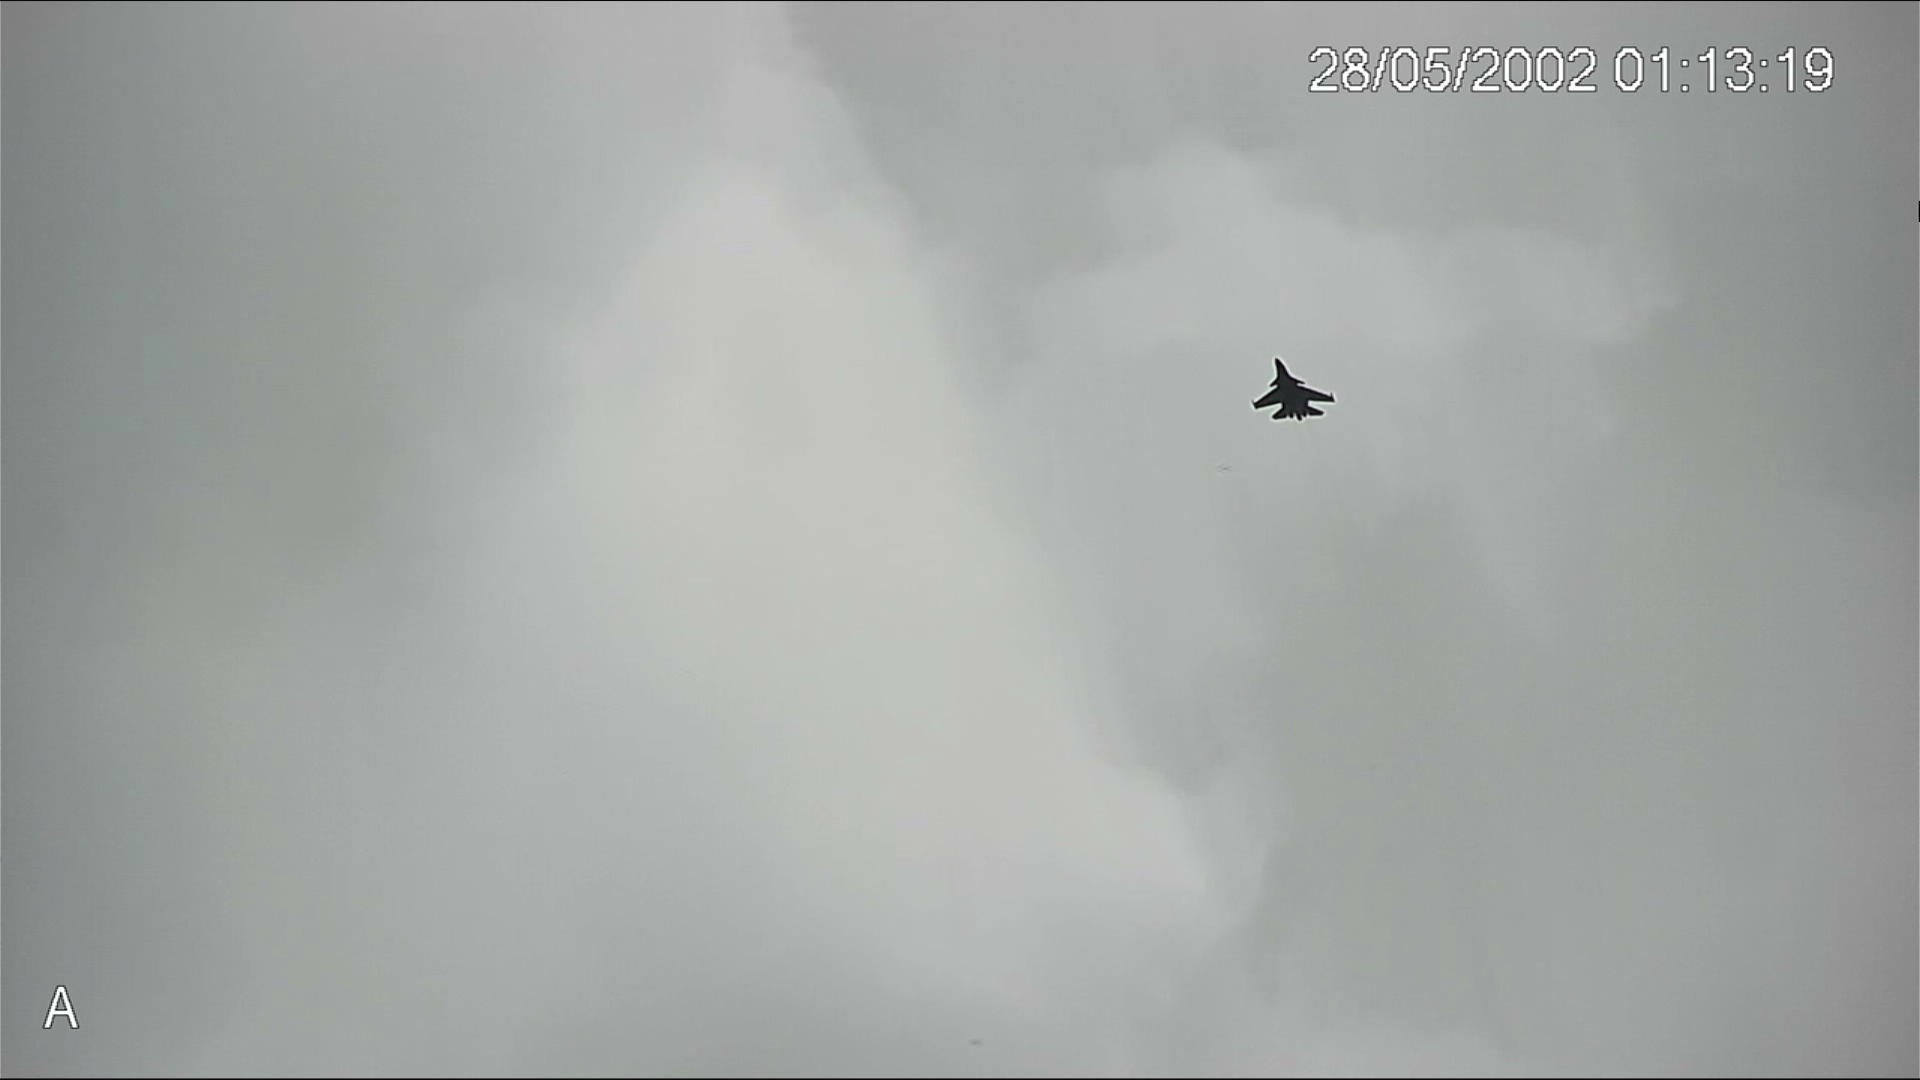SU_30: (1246, 353, 1337, 426)
